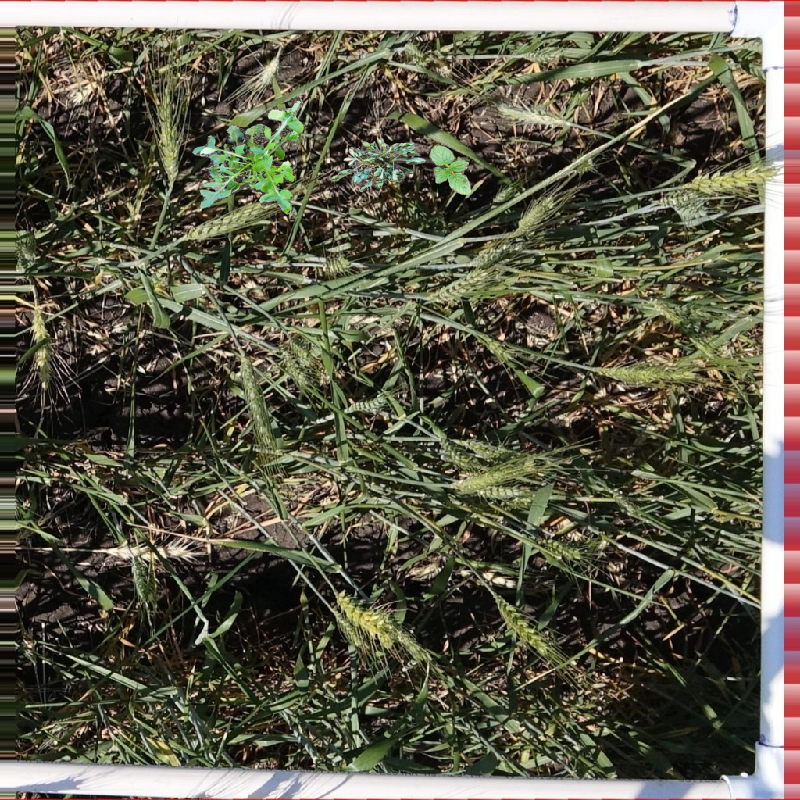spikelet: (491, 592, 561, 660), (666, 161, 770, 200), (180, 198, 269, 242), (334, 589, 397, 646), (239, 355, 276, 452), (154, 87, 183, 181), (427, 265, 492, 305), (494, 100, 573, 130), (594, 359, 678, 387), (639, 294, 695, 328), (514, 193, 558, 234), (469, 235, 525, 267), (128, 552, 160, 603), (274, 345, 311, 389), (474, 482, 533, 506), (534, 533, 583, 561), (456, 435, 510, 460), (33, 311, 50, 389), (450, 467, 500, 493), (346, 390, 391, 414), (483, 338, 516, 367), (675, 201, 710, 227), (316, 252, 351, 276)
weed: (192, 101, 304, 215), (331, 138, 426, 192), (429, 144, 471, 195)
